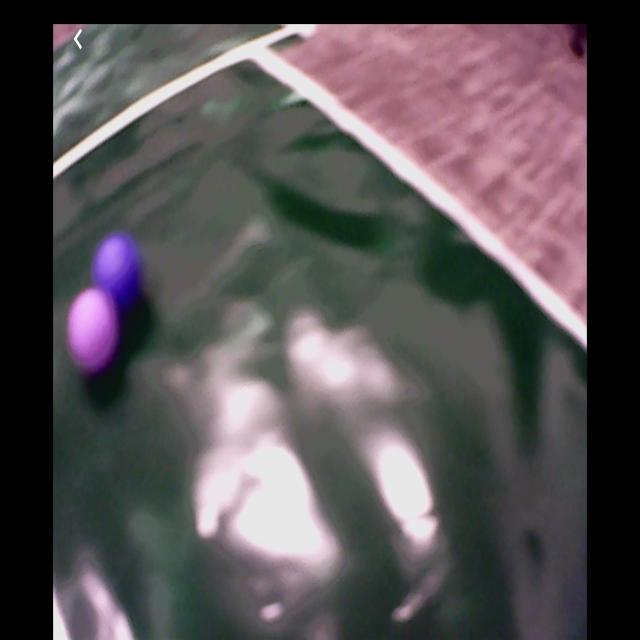ball: (68, 287, 121, 376), (92, 233, 141, 306)
